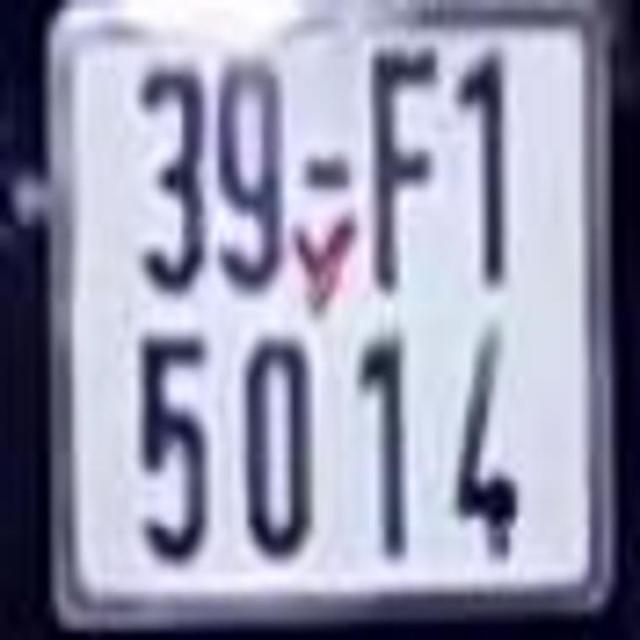0: (242, 334, 315, 558)
1: (454, 47, 515, 288), (354, 333, 415, 558)
3: (135, 62, 208, 291)
4: (451, 319, 525, 563)
5: (137, 331, 212, 563)
9: (214, 52, 286, 291)
F: (368, 41, 442, 294)
